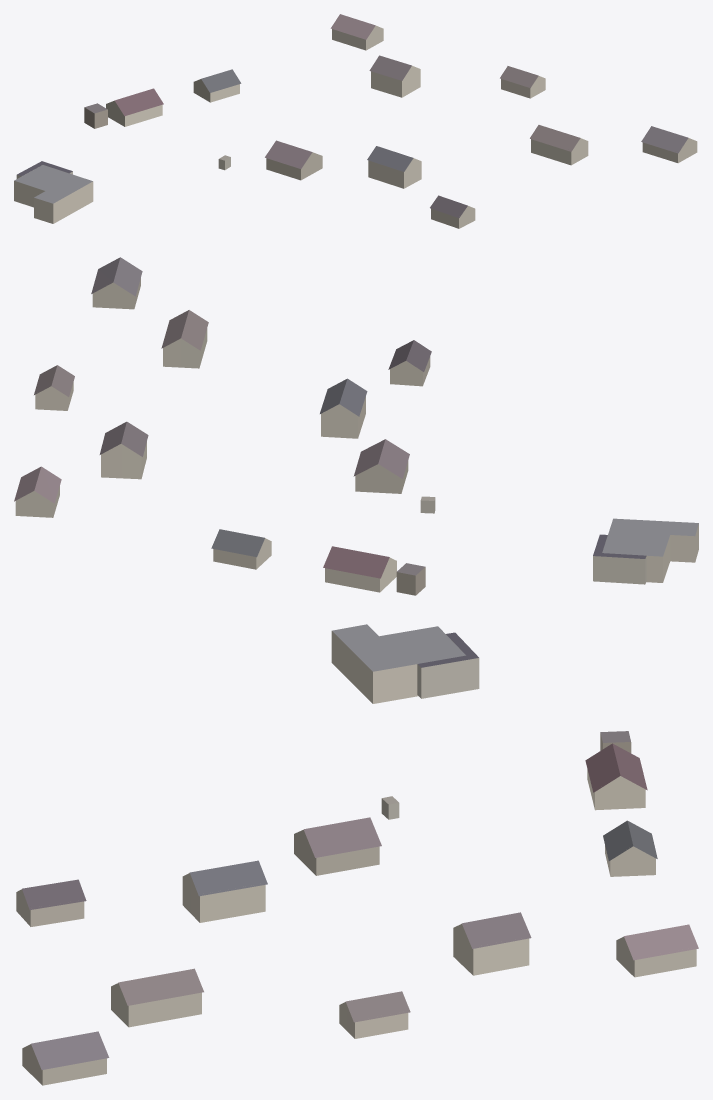
3 views of the same model, one above another, from view 1: azimuth 30°, elevation 25°; view 2: azimuth 150°, elevation 25°; view 3: azimuth 270°, elevation 25° (orthographic). The views are drawn at different scales.
Visible parts, largest first — view 1: tuile; view 2: tuile; view 3: tuile.
Boxes of the visible parts, box(x1,y1,x2,y2) form: tuile: box(14, 14, 697, 228); tuile: box(14, 257, 698, 595); tuile: box(16, 624, 698, 1085).
Bounding box in the file's own units: 204 × 13.16 × 136.
